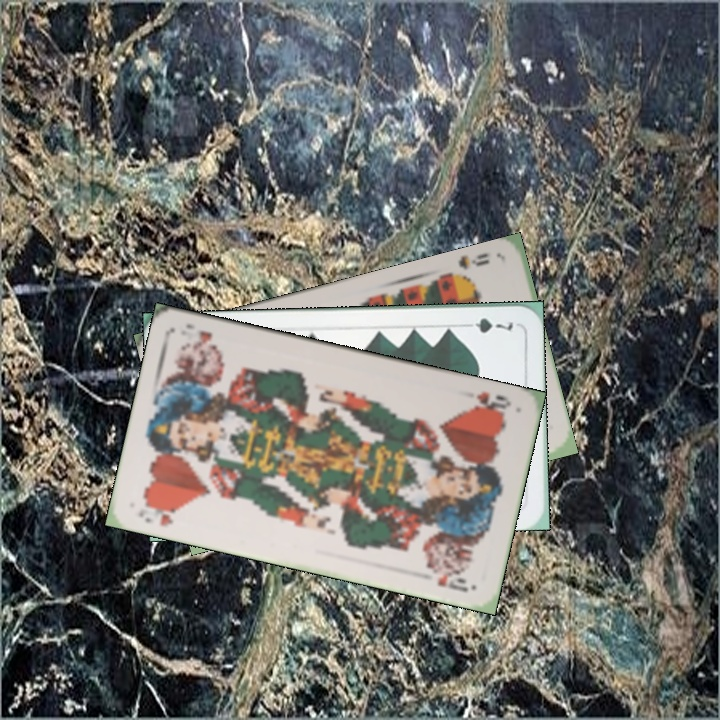G7: (458, 314, 515, 336)
HO: (464, 388, 514, 418), (134, 498, 182, 529)
S9: (454, 248, 492, 273)
